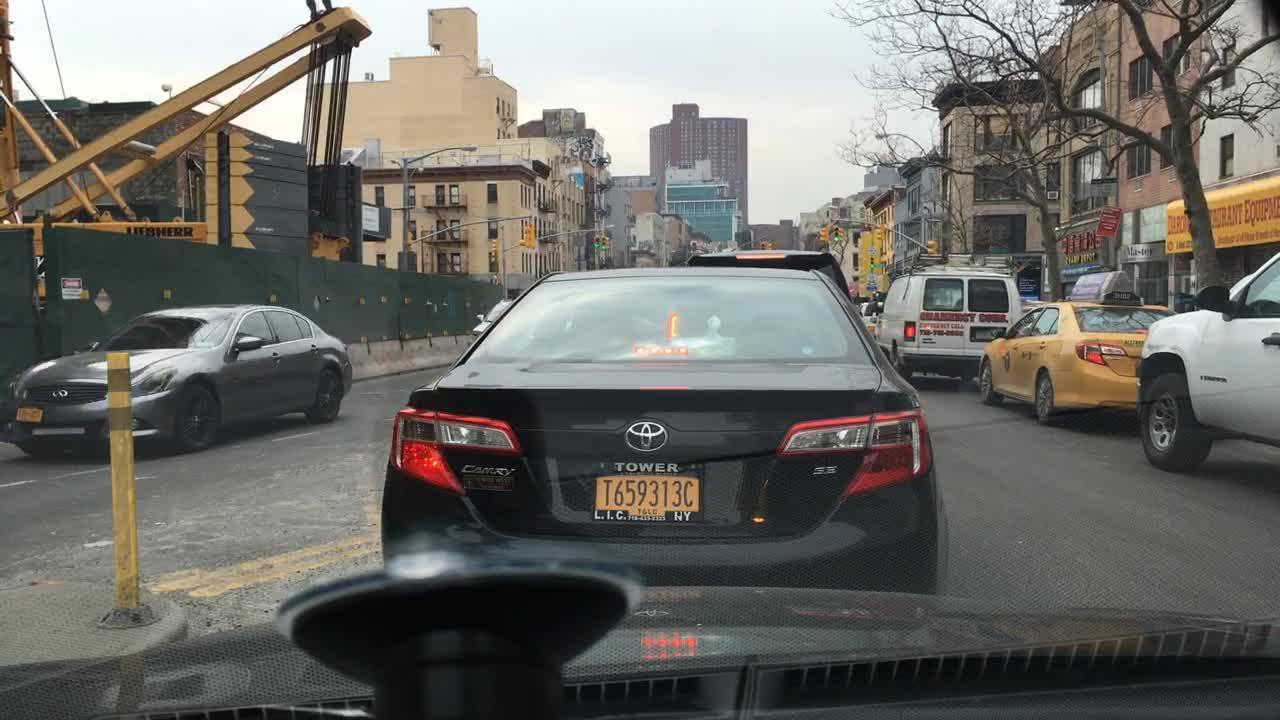Infiniti: (45, 385, 79, 403)
Toyota: (601, 415, 690, 460)
